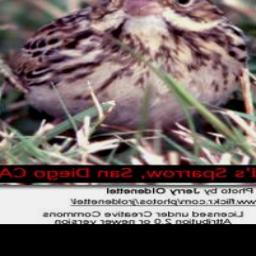Sparrow: (4, 0, 256, 159)
